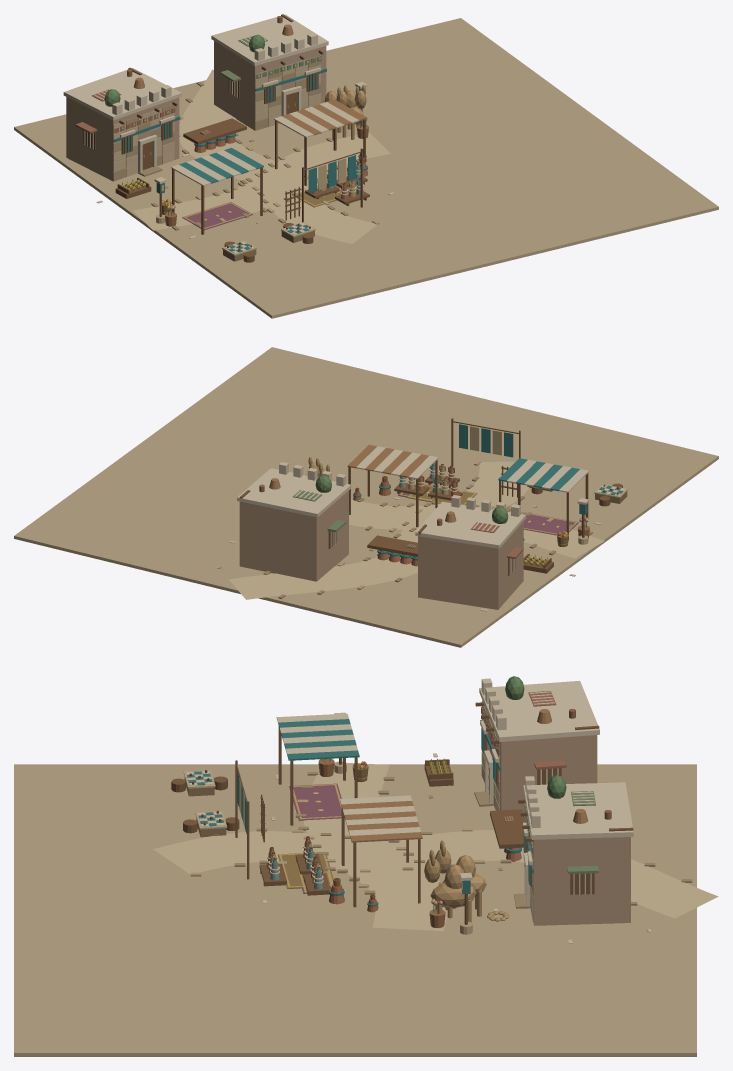
The model's file is city-guest.glb.
The picture shows the model from 3 angles, top to bottom: view 1: azimuth 30°, elevation 25°; view 2: azimuth 150°, elevation 25°; view 3: azimuth 270°, elevation 25°; orthographic projection. The views are drawn at different scales.
Visible parts, largest first — view 1: city-guest; view 2: city-guest; view 3: city-guest.
Part boxes in pixels (box(x1,y1,x2,y2)): city-guest: box(14, 14, 718, 318); city-guest: box(14, 347, 718, 647); city-guest: box(14, 676, 718, 1056).
Bounding box in the file's own units: 33.12 × 5.97 × 33.03.
